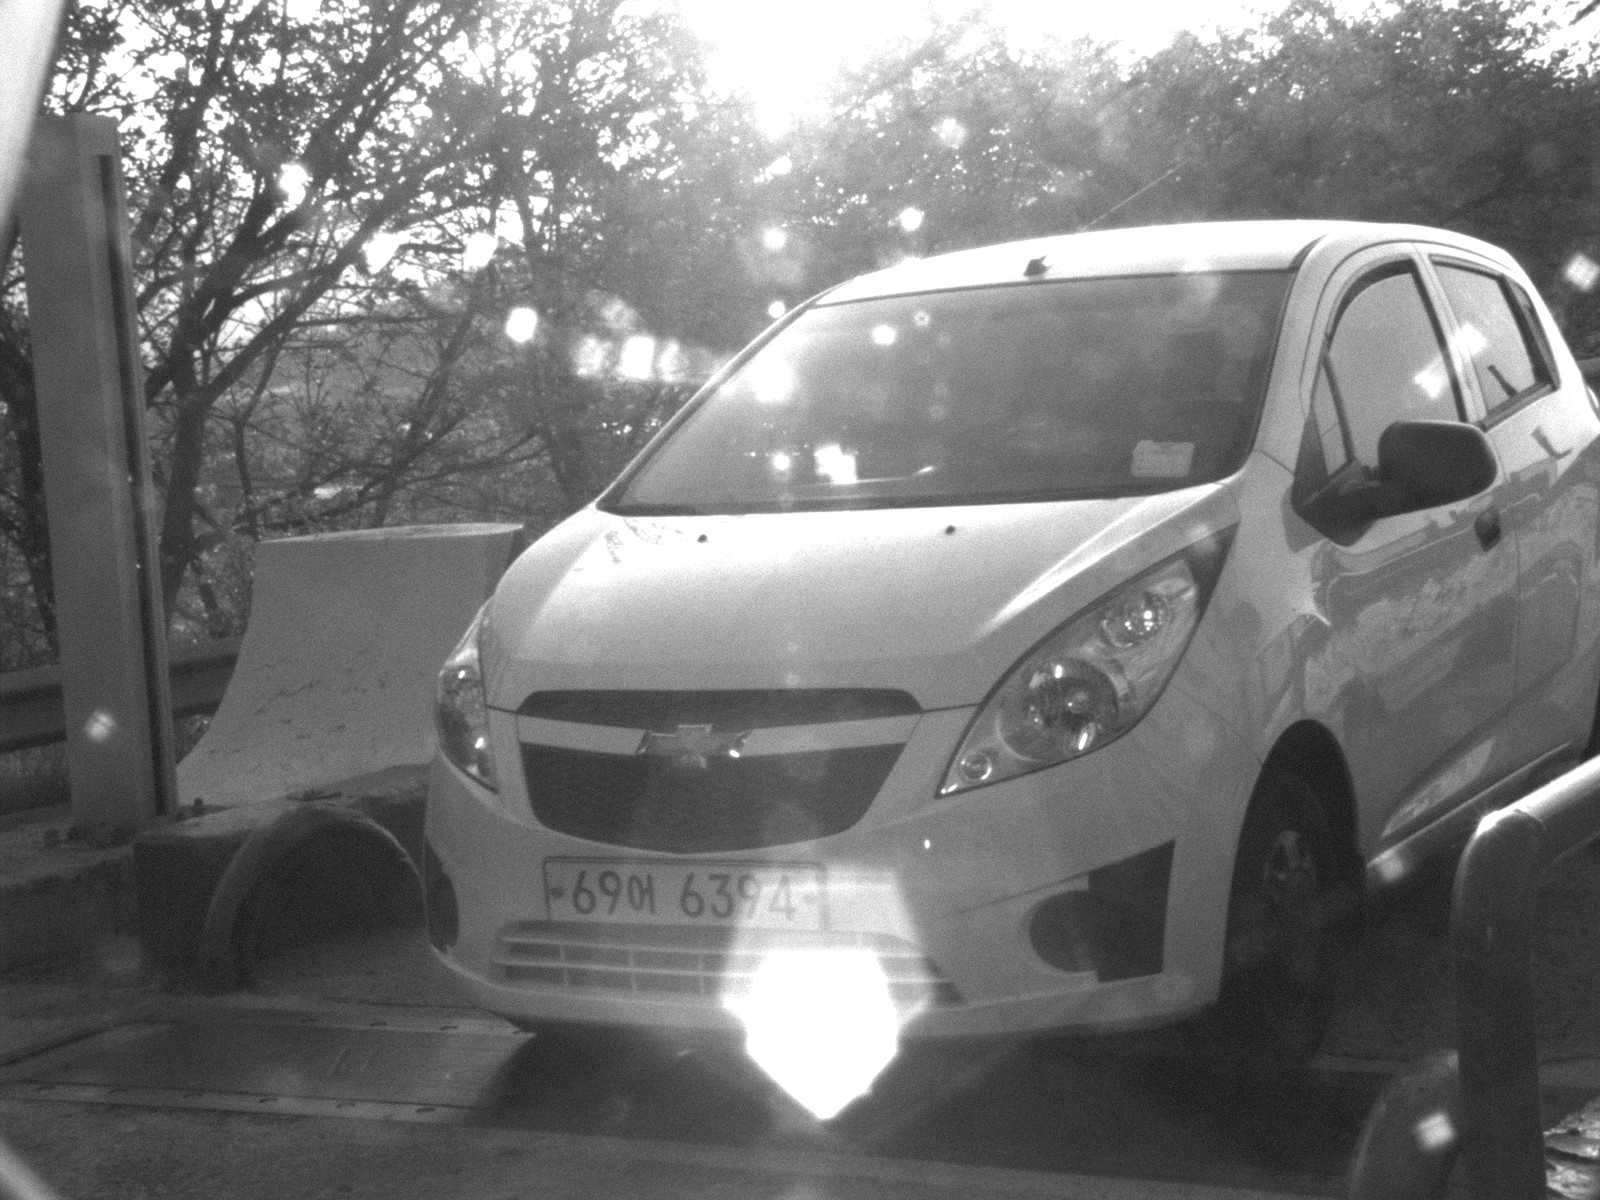car: (406, 212, 1600, 1087)
plate: (538, 851, 835, 940)
